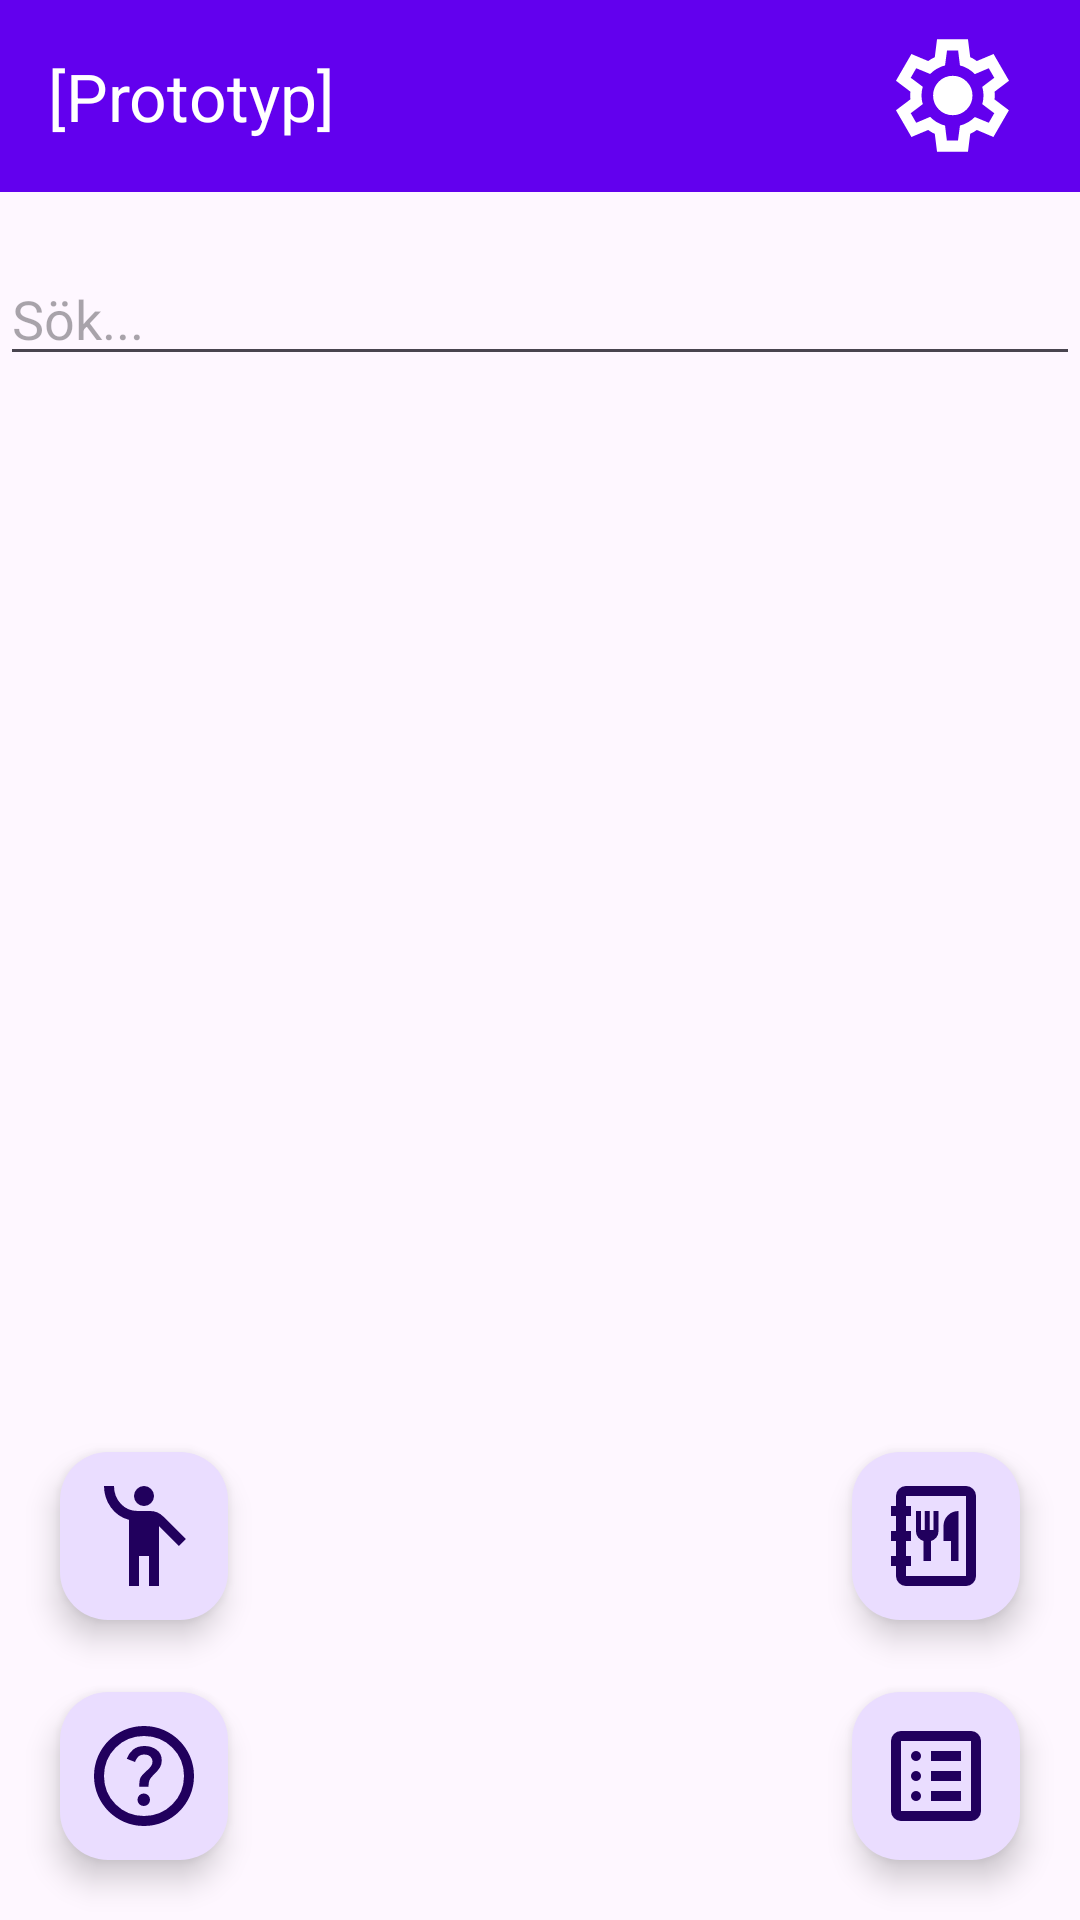

Screen size 1080*1920. Icon name, then its box in pixels as (x1, y1, x2, y2):
settings: (896, 39, 1009, 152)
Visa hjälp: (60, 1692, 228, 1860)
